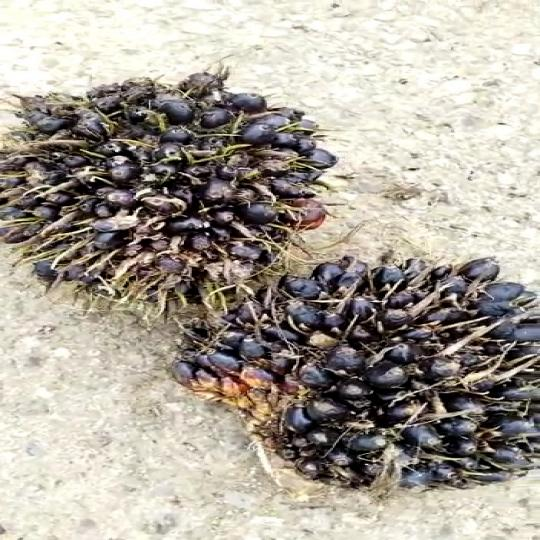mentah: (172, 242, 540, 502), (0, 56, 360, 314)
